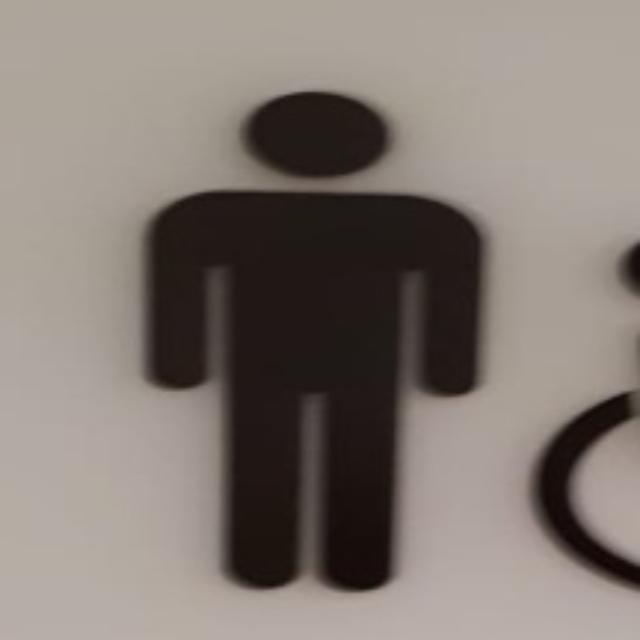wc nam: (0, 0, 637, 637)
